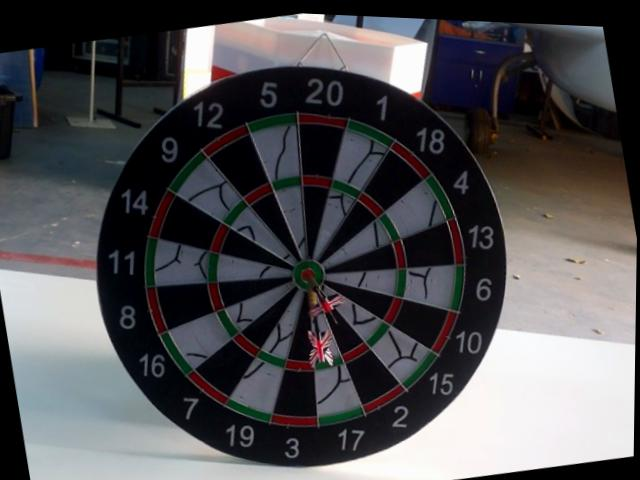bullseye: (299, 261, 319, 286)
